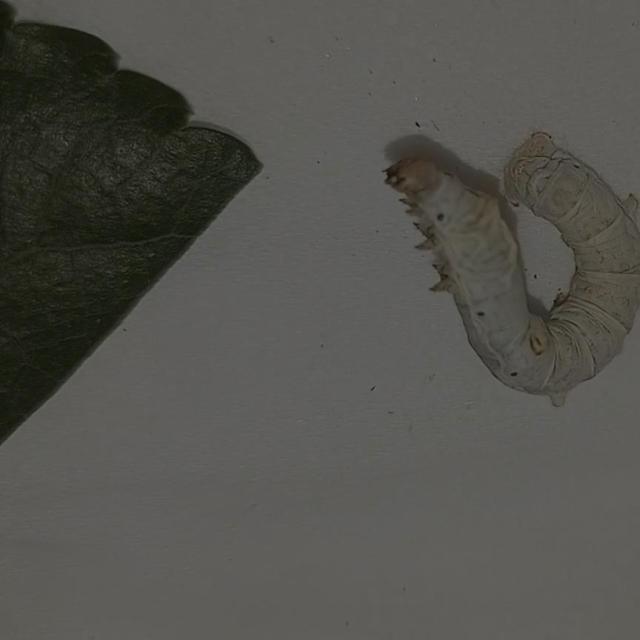Healthy: (376, 119, 640, 417)
